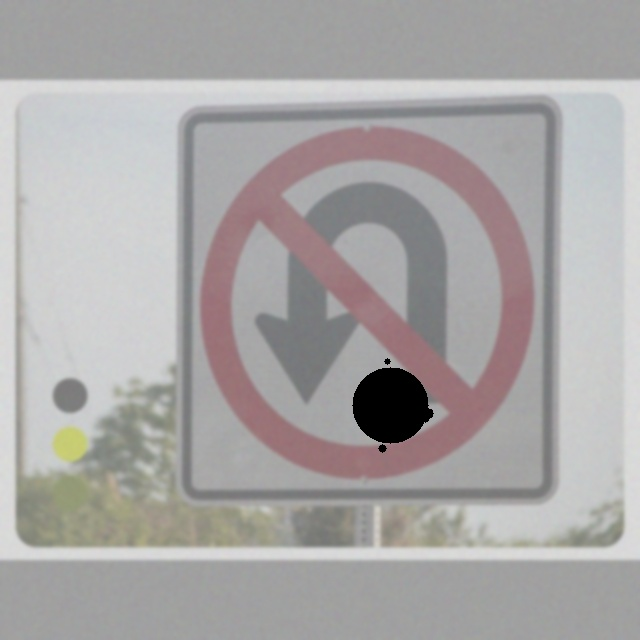U_Turn_Prohibited: (202, 122, 545, 487)
